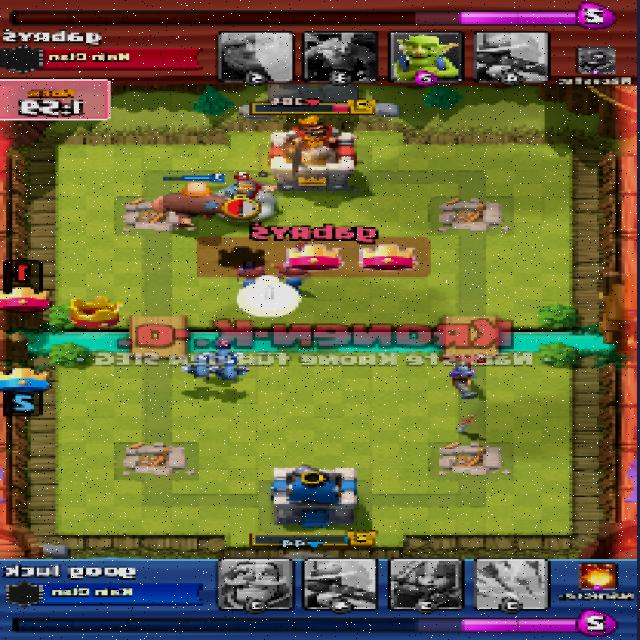Enemy-Knight: (225, 175, 278, 207)
Enemy-Musketeer: (447, 362, 483, 398)
Player-Giant: (150, 183, 238, 227)
Player-Minion: (212, 362, 245, 382), (183, 358, 214, 379), (213, 344, 234, 361)
Player-Wallbreaker: (274, 261, 312, 294), (230, 259, 266, 289)
